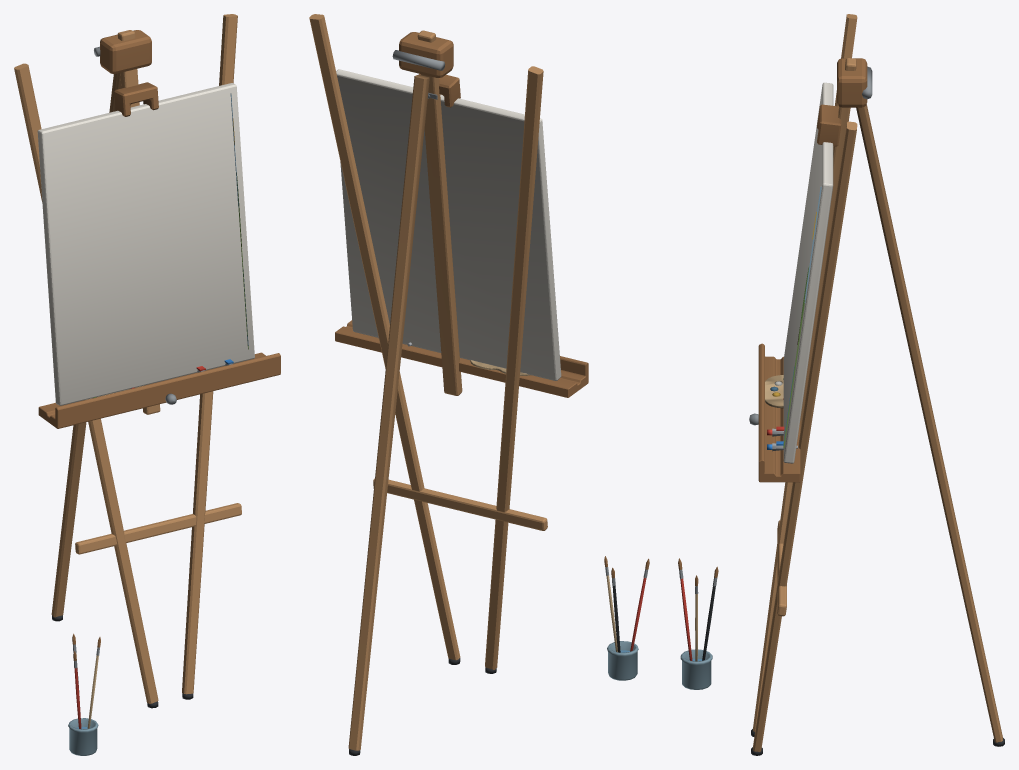
File: easel.glb
3 renders of one model, left to right at view 1: azimuth 30°, elevation 25°; view 2: azimuth 150°, elevation 25°; view 3: azimuth 270°, elevation 25°, orthographic. The views are drawn at different scales.
Parts seen in each view (by area): view 1: body; view 2: body; view 3: body, painting.
Boxes of the visible parts, box(x1,y1,x2,y2) form: body: box(14, 14, 280, 755); body: box(309, 14, 649, 755); body: box(678, 14, 1004, 755); painting: box(783, 187, 821, 447).
Size of the model in its own units: 0.7005 by 1.75 by 0.7571.
